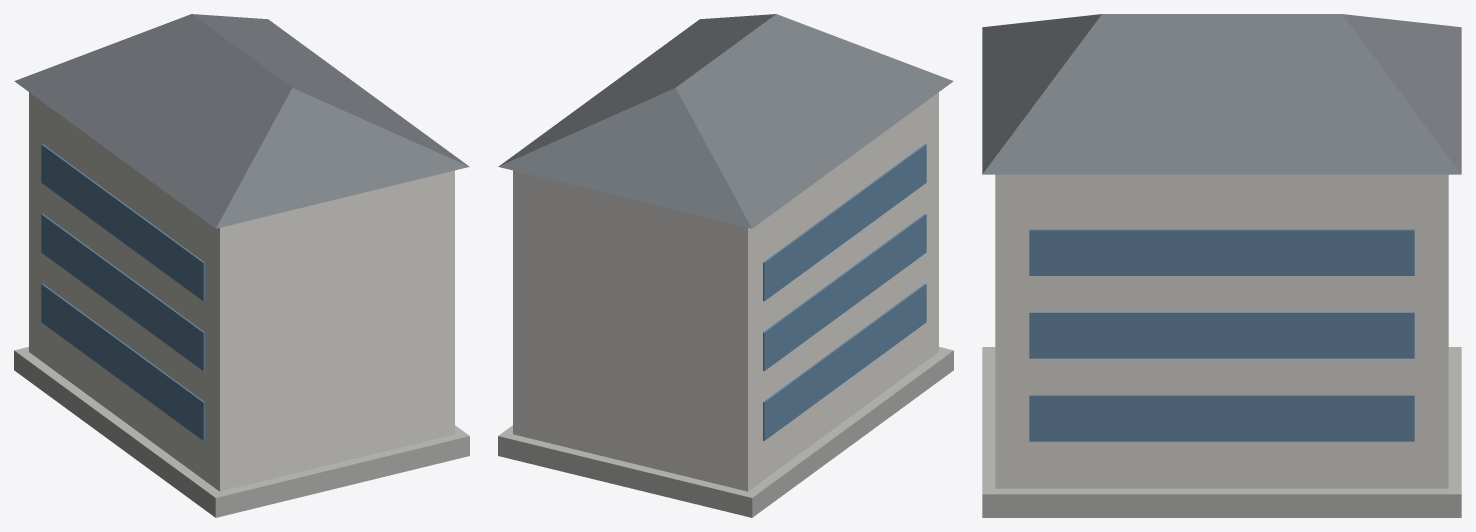
File: townhouse_row_corner.glb
The picture shows the model from 3 angles, left to right: view 1: azimuth 30°, elevation 25°; view 2: azimuth 150°, elevation 25°; view 3: azimuth 270°, elevation 25°; orthographic projection. The views are drawn at different scales.
Parts seen in each view (by area): view 1: townhouse_row_corner; view 2: townhouse_row_corner; view 3: townhouse_row_corner.
Boxes of the visible parts, box(x1,y1,x2,y2) form: townhouse_row_corner: box(14, 14, 469, 517); townhouse_row_corner: box(498, 14, 953, 517); townhouse_row_corner: box(982, 14, 1461, 517).
Bounding box in the file's own units: 8 × 10.9 × 11.
